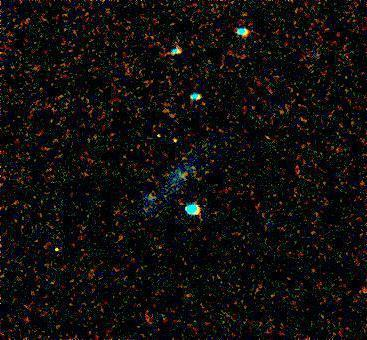star: (144, 122, 174, 152)
